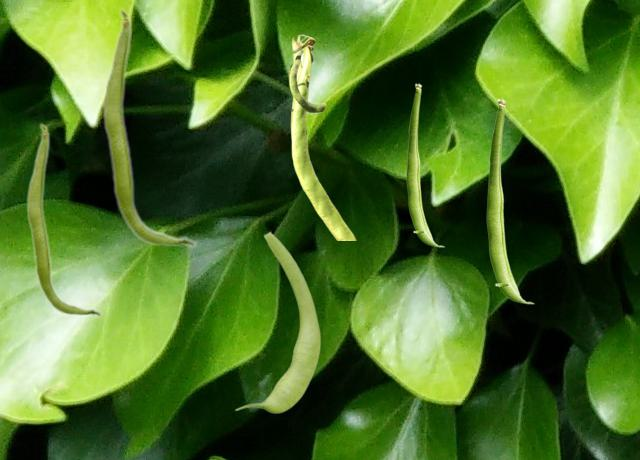french_bean: (101, 7, 197, 248), (234, 230, 320, 412), (25, 122, 102, 317), (288, 34, 355, 239), (486, 98, 534, 303), (406, 83, 444, 246)
